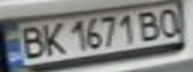1: (115, 11, 139, 44), (66, 16, 87, 52)
6: (84, 15, 103, 51)
7: (100, 12, 121, 47)
B: (15, 22, 48, 60), (133, 8, 166, 42)
K: (36, 20, 69, 56)
O: (154, 6, 187, 37)
